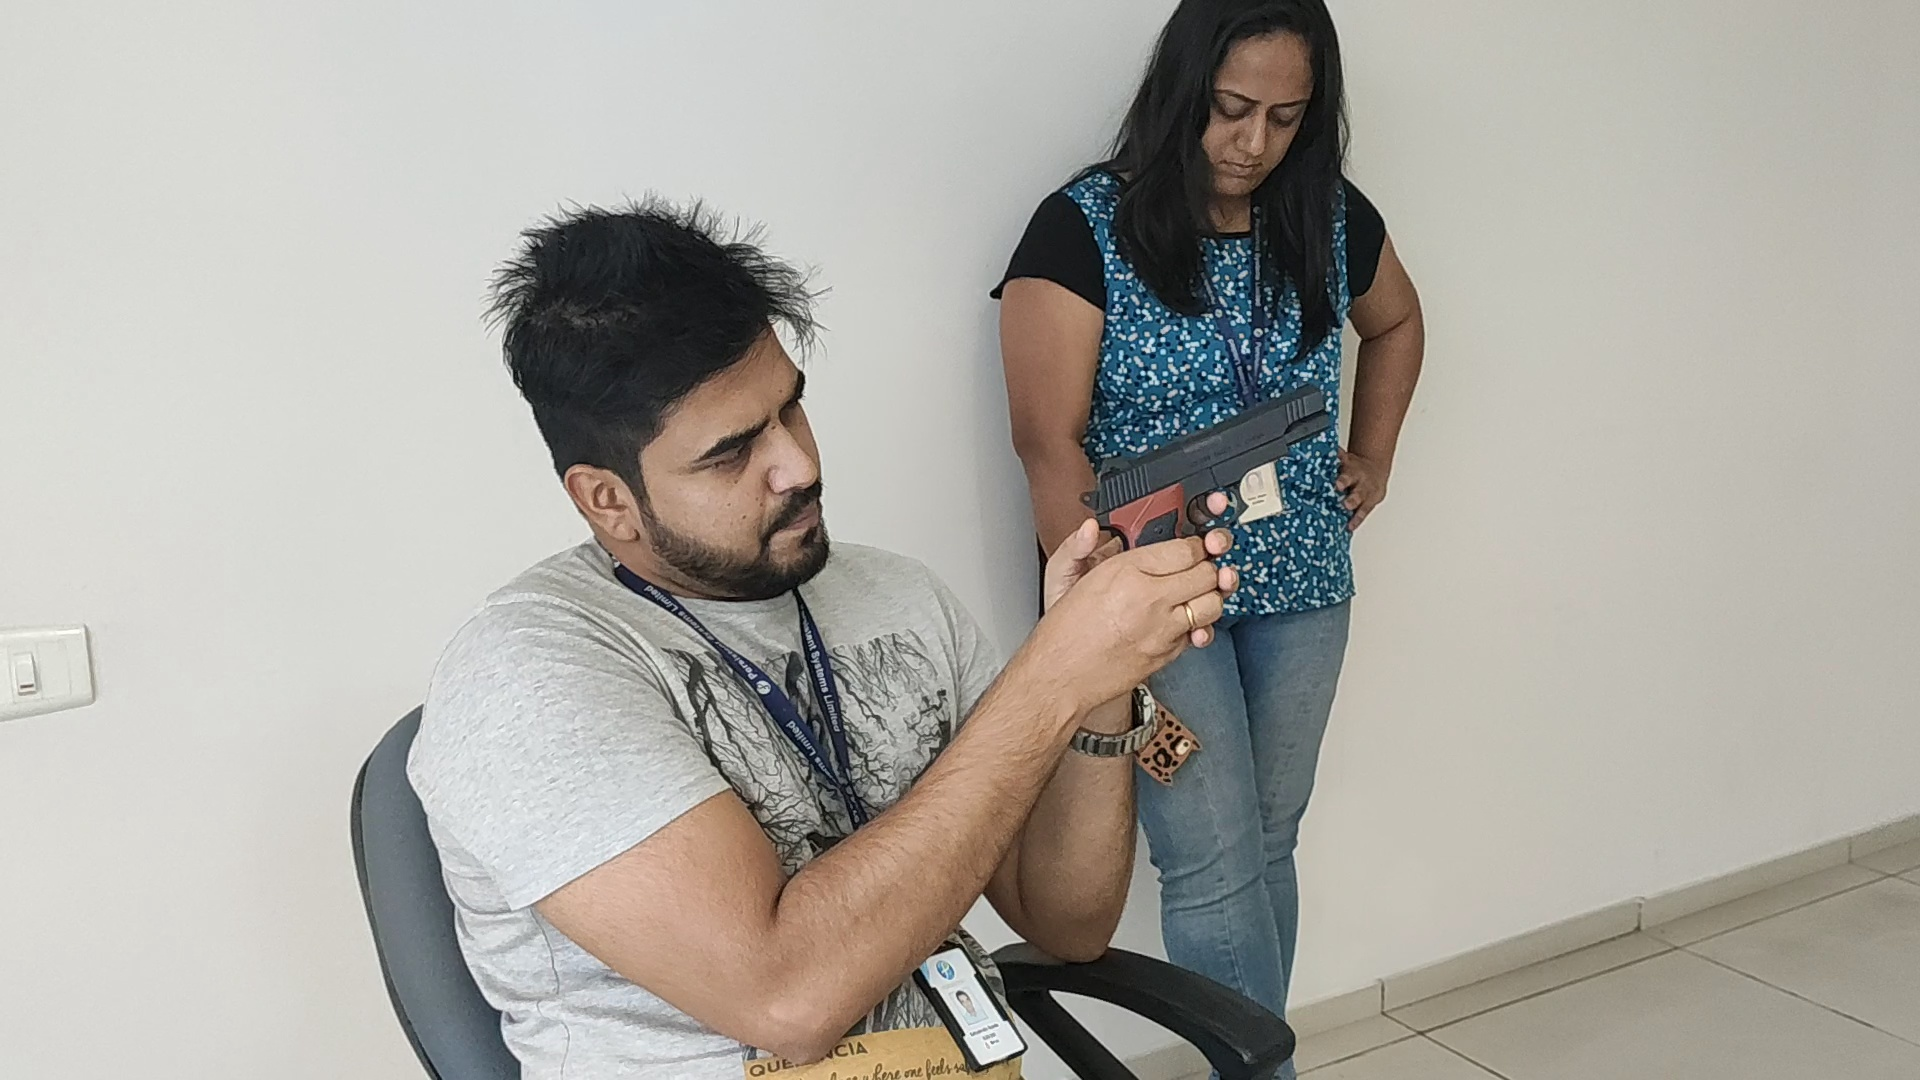gun: (1077, 382, 1331, 516)
